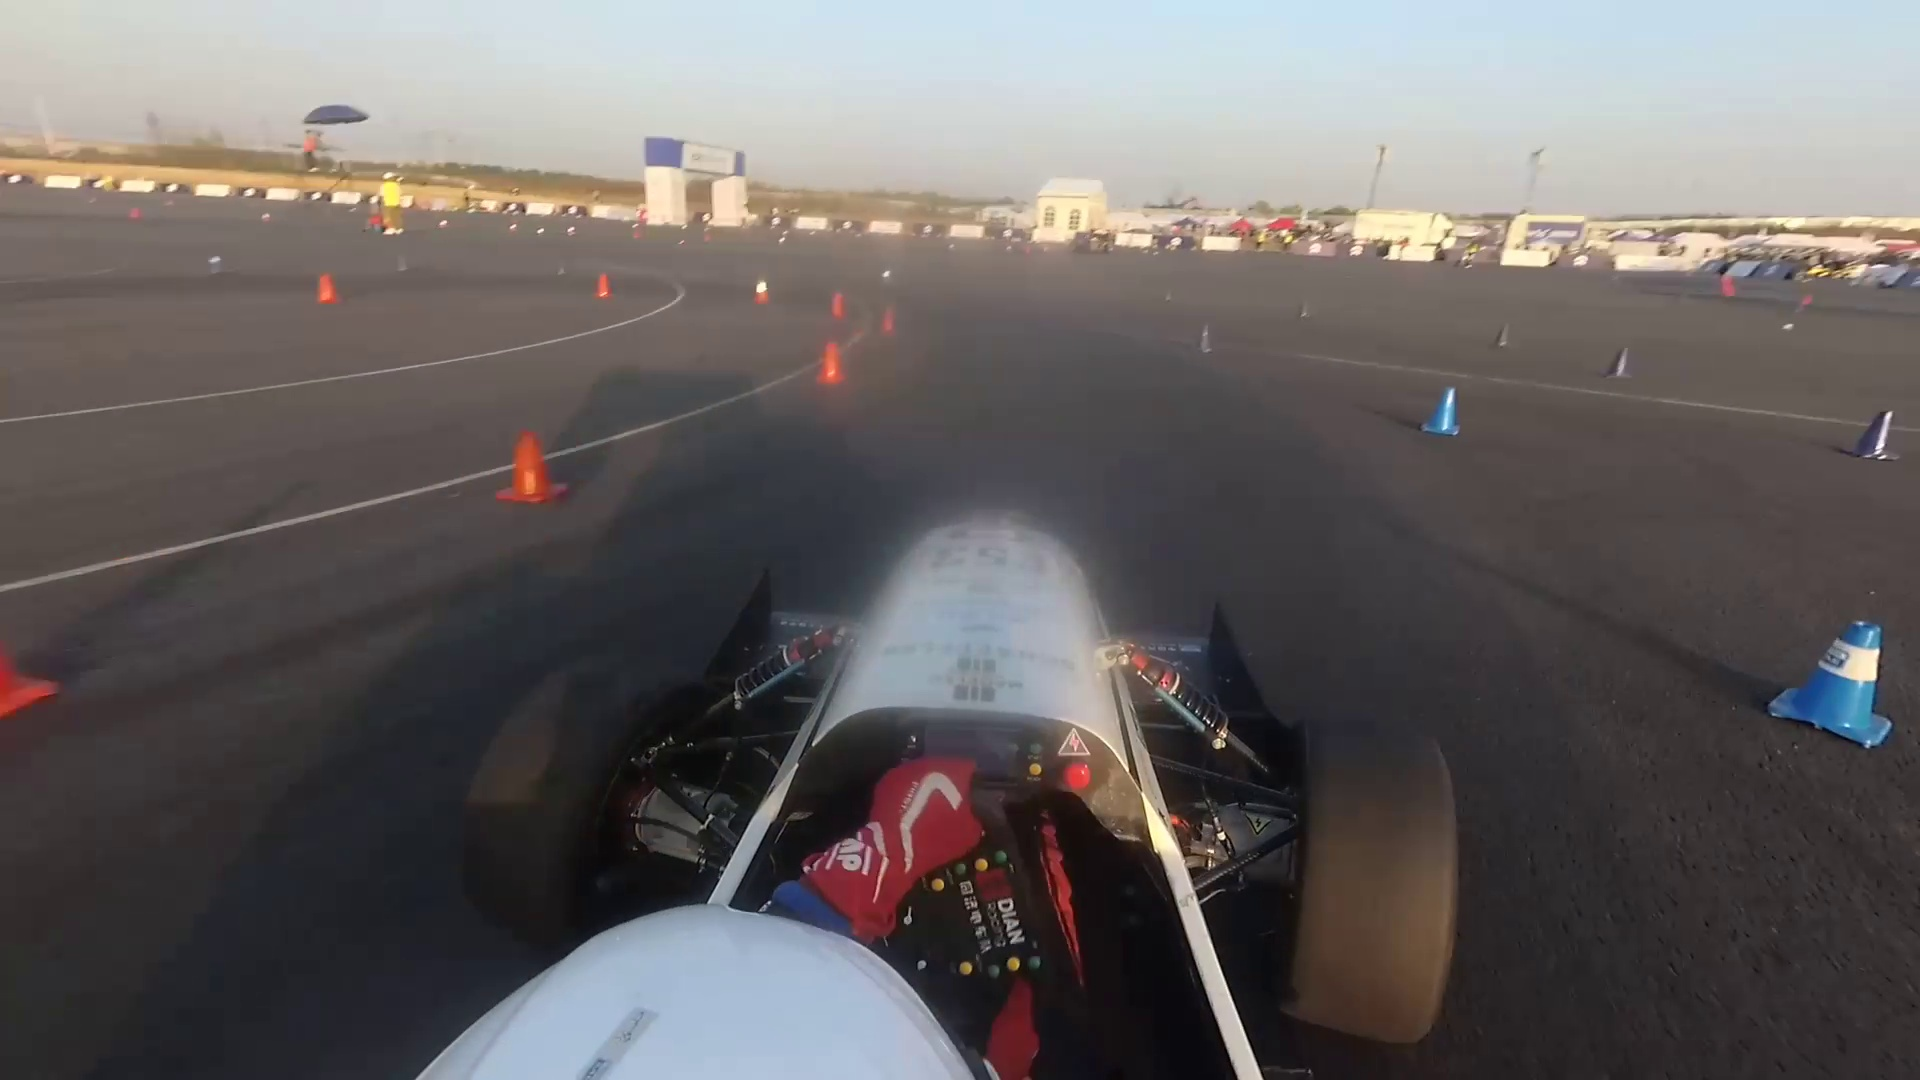blue_cone: (1778, 615, 1888, 742), (1418, 382, 1466, 436), (1847, 404, 1886, 464), (1607, 347, 1627, 388), (1189, 324, 1215, 353), (876, 266, 897, 294), (1490, 324, 1511, 349), (1294, 301, 1309, 320), (1162, 289, 1176, 307)
red_cone: (497, 436, 564, 508), (815, 343, 847, 386), (314, 273, 340, 309), (593, 272, 613, 299), (756, 280, 773, 309), (876, 309, 894, 334), (828, 290, 844, 318)
